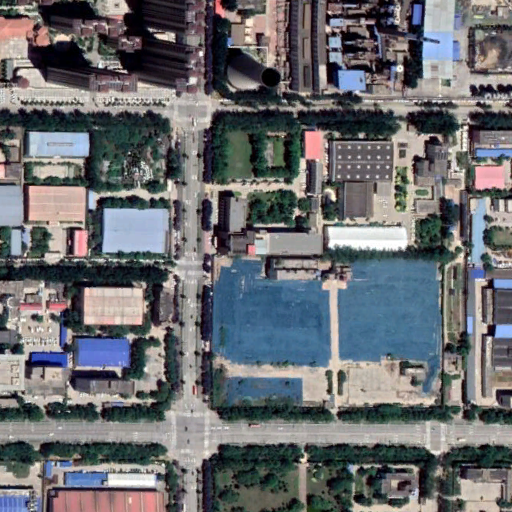cw: (214, 256, 441, 407)
